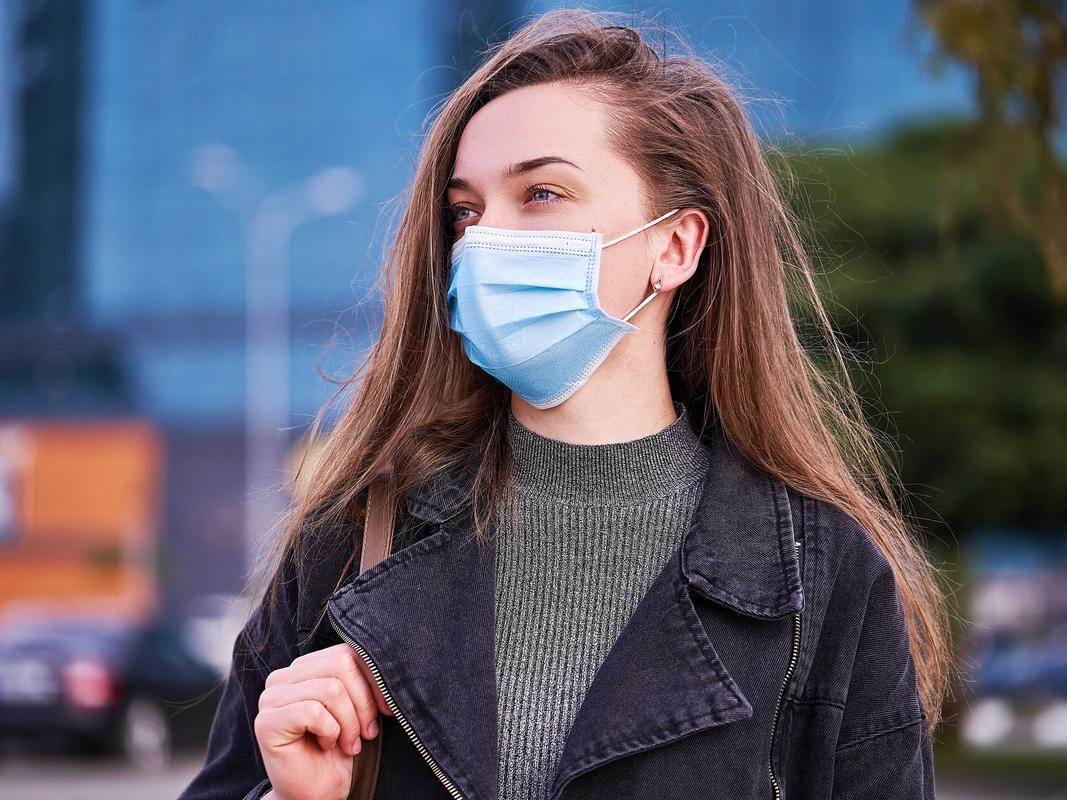mask: (446, 84, 679, 413)
